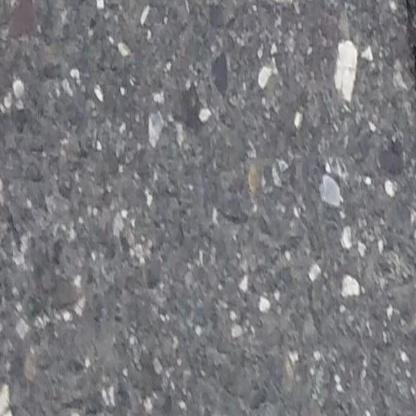Cracks: (400, 0, 416, 205)
